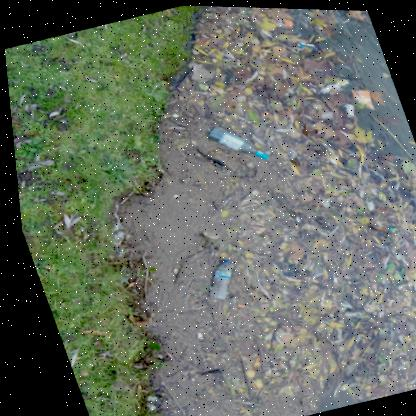Plastic: (203, 125, 265, 158), (203, 258, 225, 298), (349, 87, 372, 107), (269, 16, 292, 27), (293, 40, 316, 49), (381, 261, 385, 267), (230, 303, 238, 306), (384, 224, 387, 227)
Waste: (317, 77, 346, 92), (340, 102, 352, 116), (374, 275, 378, 282)
